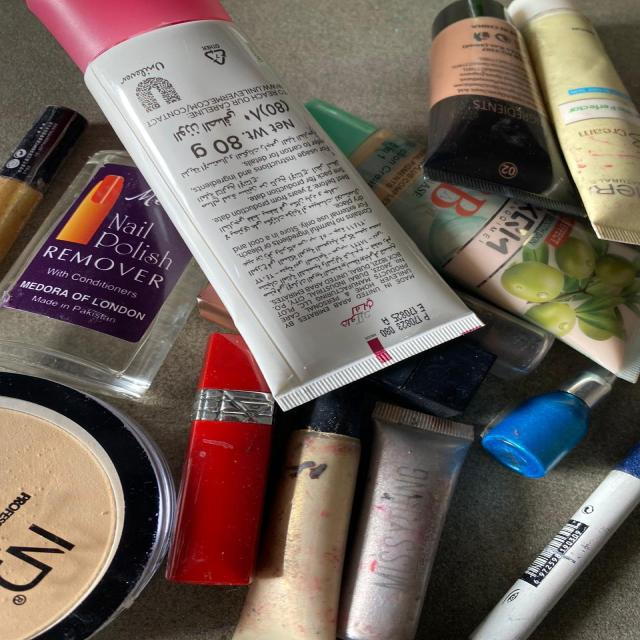bb cream: (20, 3, 640, 387)
foundation: (310, 386, 473, 640)
highlighter: (476, 388, 634, 640)
lip stick: (187, 319, 289, 607)
nail polish remover: (0, 149, 180, 397)
powder: (0, 394, 166, 640)
